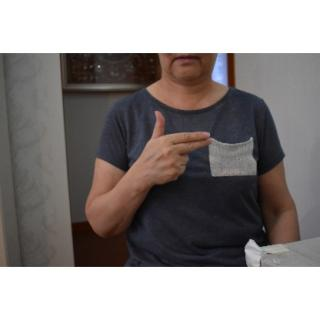GHAYN: (137, 108, 216, 184)
